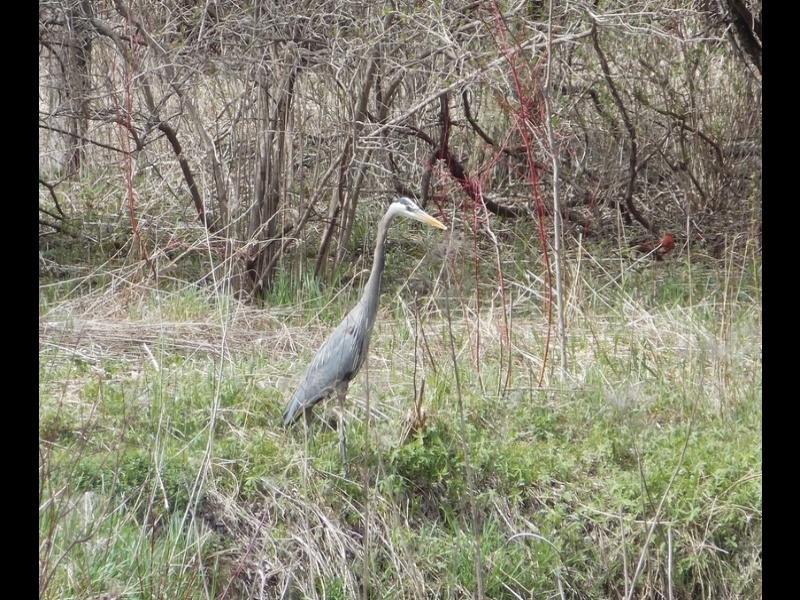heron: (276, 192, 452, 455)
